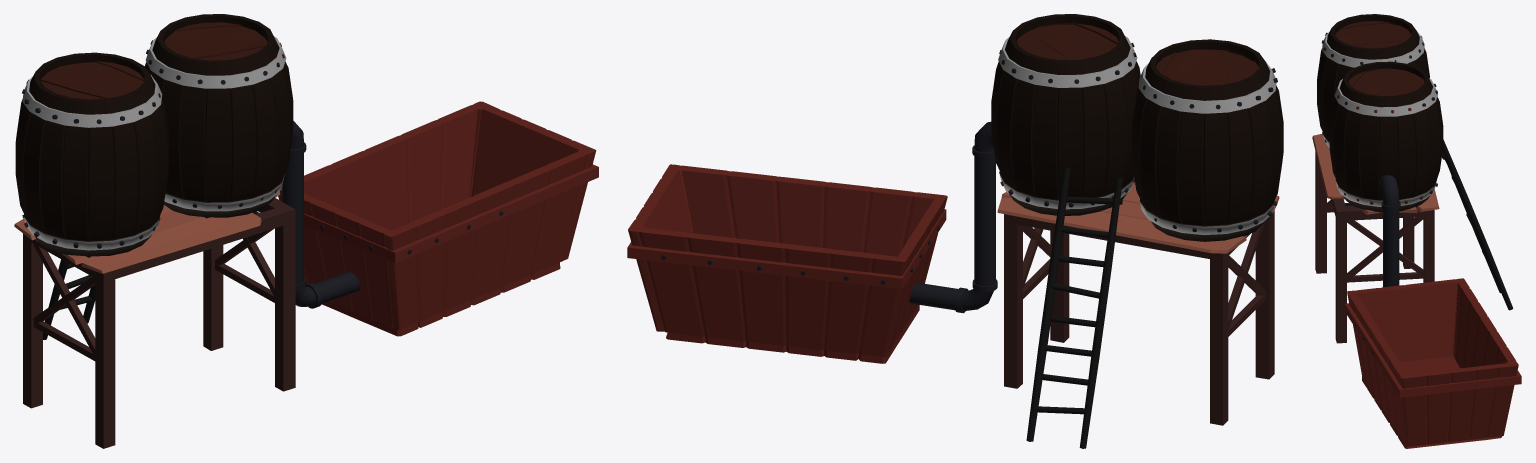
Rendered from stage5 water tank.fbx.
3 views of the same model, side by side, from view 1: azimuth 30°, elevation 25°; view 2: azimuth 150°, elevation 25°; view 3: azimuth 270°, elevation 25° (orthographic). The views are drawn at different scales.
Parts seen in each view (by area): view 1: Box001; view 2: Box001; view 3: Box001.
Boxes of the visible parts, x1,y1,x2,y2 form: Box001: (14, 14, 598, 448); Box001: (627, 14, 1283, 448); Box001: (1312, 14, 1521, 448).
Size of the model in its own units: 544 by 295 by 227.
